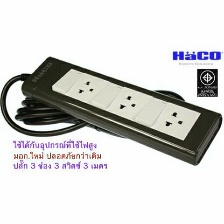three_eye_plug: (15, 51, 224, 171)
